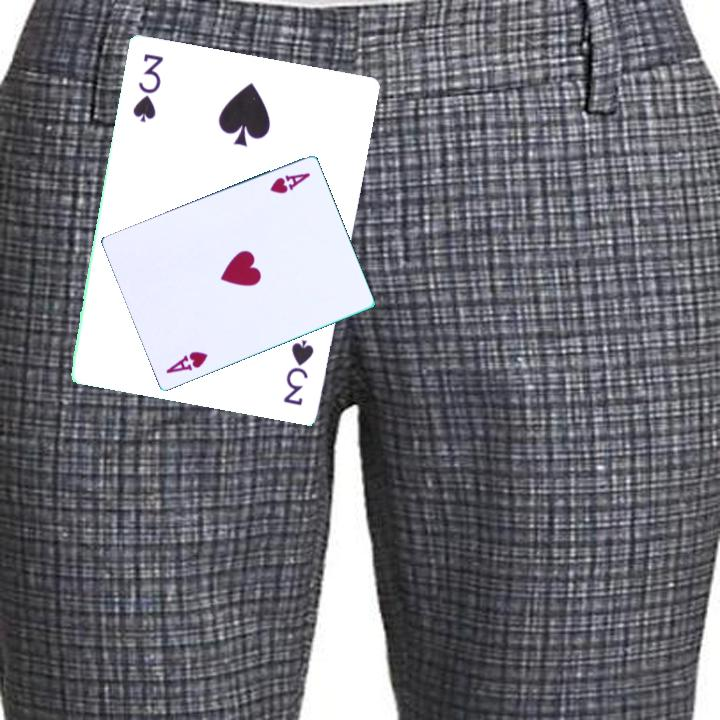3s: (128, 50, 166, 125), (279, 335, 317, 408)
Ah: (162, 348, 211, 377), (266, 170, 313, 197)
